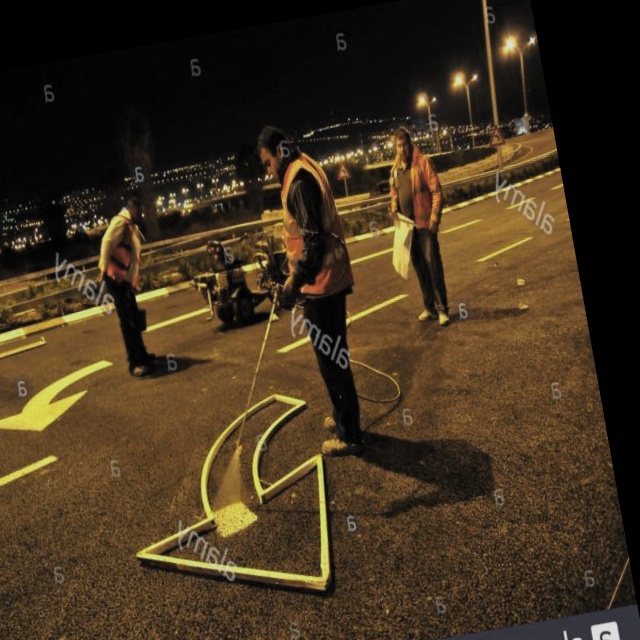Con_Chaleco: (268, 155, 357, 297), (385, 155, 445, 242)
Sin_Casco_Mascarrilla: (390, 124, 419, 162)
